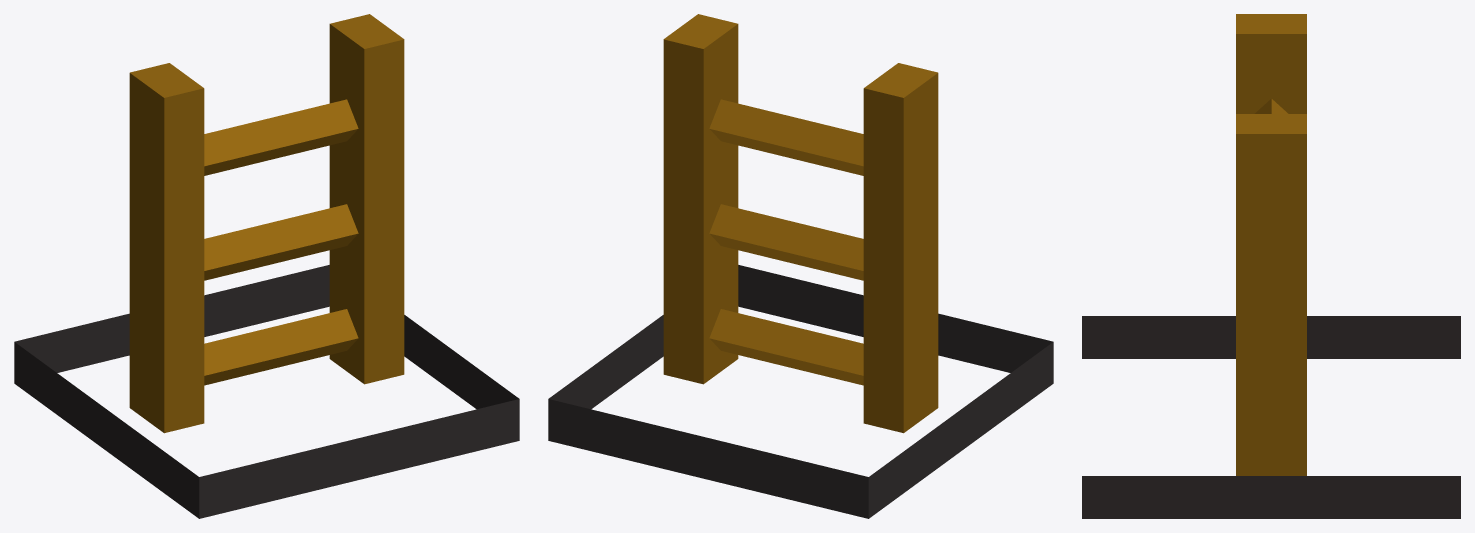
The model's file is obj_tower_ladder_2_0.obj.
3 views of the same model, side by side, from view 1: azimuth 30°, elevation 25°; view 2: azimuth 150°, elevation 25°; view 3: azimuth 270°, elevation 25° (orthographic). The views are drawn at different scales.
Size of the model in its own units: 1 by 1.06 by 1.
